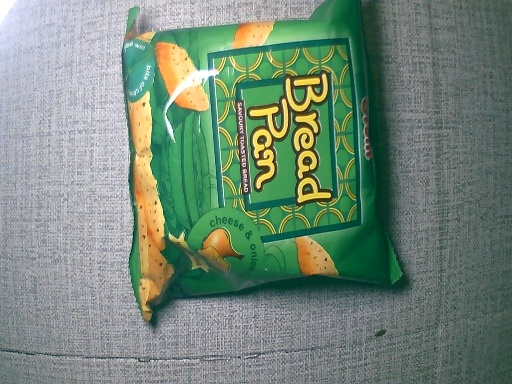plastic: (101, 3, 409, 320)
